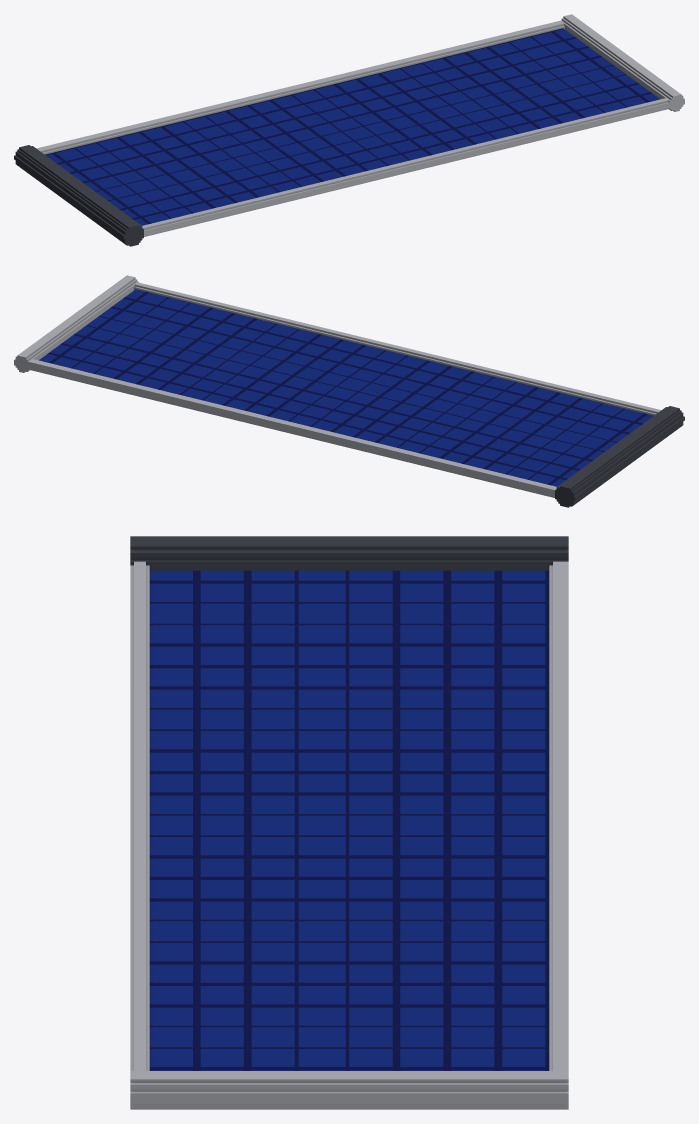
File: solar_rollout.glb
3 views of the same model, one above another, from view 1: azimuth 30°, elevation 25°; view 2: azimuth 150°, elevation 25°; view 3: azimuth 270°, elevation 25° (orthographic). The views are drawn at different scales.
Parts seen in each view (by area): view 1: solar_rollout; view 2: solar_rollout; view 3: solar_rollout.
Boxes of the visible parts, box(x1,y1,x2,y2) form: solar_rollout: box(14, 14, 684, 246); solar_rollout: box(14, 275, 684, 507); solar_rollout: box(130, 536, 568, 1109).
Bounding box in the file's own units: 5.17 × 0.1719 × 1.75.
